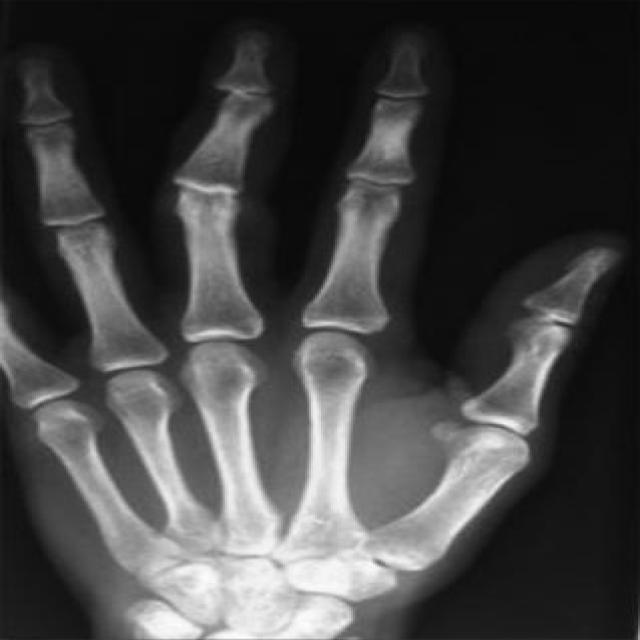fracture: (168, 171, 240, 204), (211, 80, 277, 100)
